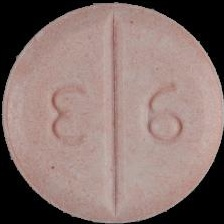0093-7254: (0, 0, 224, 224)
